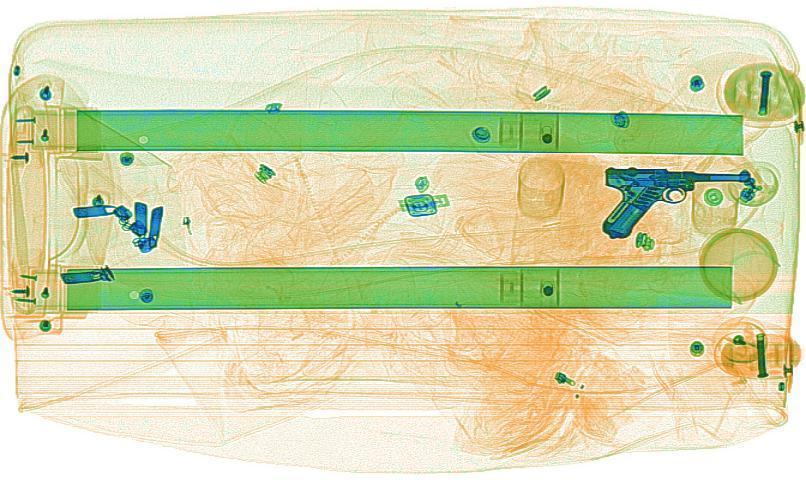Gun: (595, 163, 760, 239)
